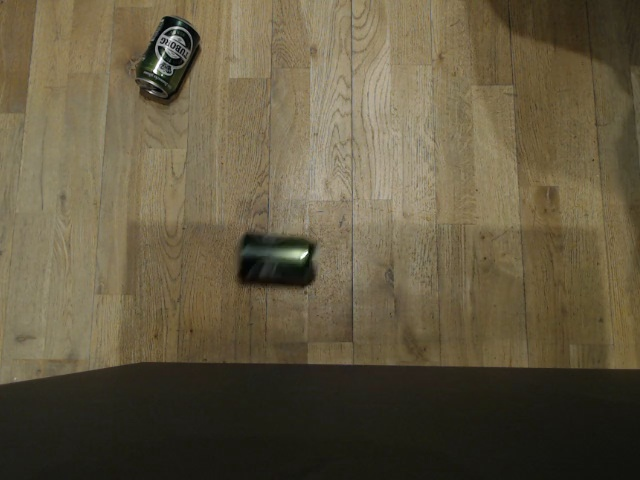beer: (132, 13, 202, 100), (233, 231, 316, 288)
